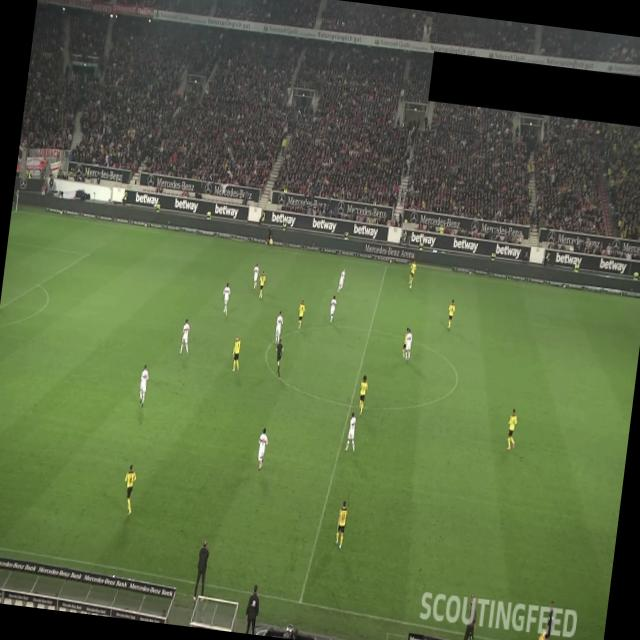ball: (632, 270, 638, 280), (409, 284, 412, 290)
player: (120, 462, 138, 516), (254, 427, 270, 471), (334, 500, 348, 550), (504, 407, 519, 450), (344, 411, 359, 454), (137, 363, 150, 407), (178, 316, 192, 356), (356, 374, 369, 417), (230, 334, 243, 372), (220, 281, 232, 316), (273, 310, 285, 344), (402, 327, 413, 363), (445, 298, 456, 332), (296, 298, 306, 330), (257, 270, 267, 300), (408, 259, 418, 289), (250, 260, 260, 290), (328, 294, 338, 324), (401, 327, 410, 358), (337, 268, 346, 294)
referee: (536, 606, 556, 640), (272, 337, 284, 377), (264, 220, 274, 248)
